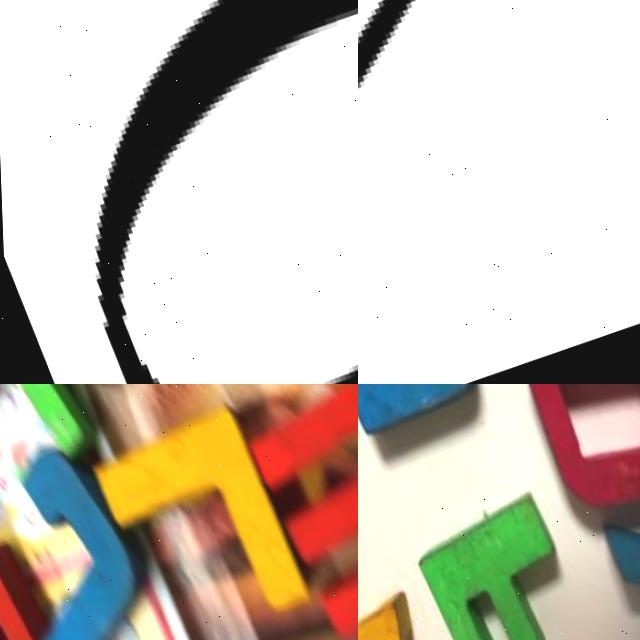F: (403, 486, 603, 640), (0, 384, 177, 474)
J: (0, 442, 168, 640)
L: (86, 401, 311, 640)
O: (506, 384, 640, 525)
V: (358, 0, 640, 384)
W: (234, 384, 358, 640)
X: (358, 520, 458, 640)
